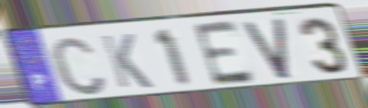1: (152, 28, 197, 89)
3: (298, 15, 350, 76)
C: (47, 34, 110, 98)
E: (190, 18, 258, 89)
K: (98, 32, 156, 91)
V: (240, 16, 293, 82)
